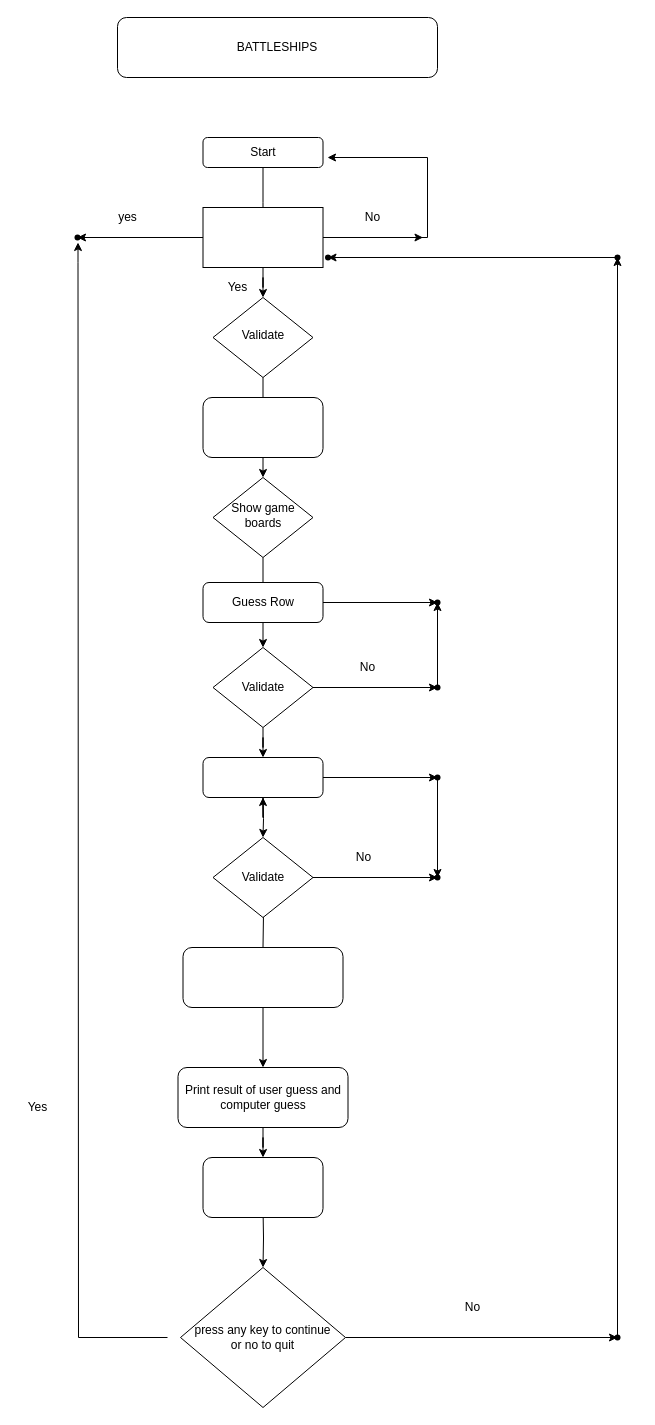
Image size: 655x1425. Some labels were removed from this diagram. Here are the shapes that lost their labels. From the top down, the centre of each, then its label:
At (262,237): "User input: Enter player name".
At (262,427): "Show Board size and rules for board rows and column parameters".
At (262,777): "Guess Column".
At (262,977): "Retrieve guess data for user and computer".
At (262,1187): "print scores".
